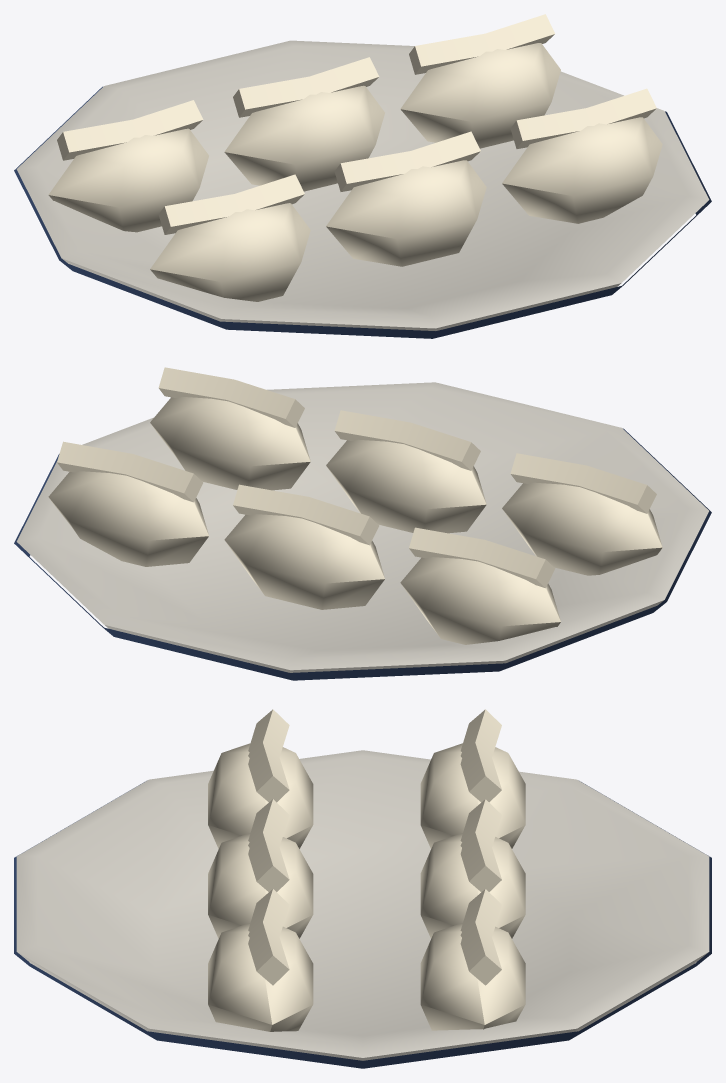
The model's file is dumpling_plate.glb.
3 renders of one model, top to bottom at view 1: azimuth 30°, elevation 25°; view 2: azimuth 150°, elevation 25°; view 3: azimuth 270°, elevation 25°, orthographic. The views are drawn at different scales.
Parts seen in each view (by area): view 1: dumpling_plate; view 2: dumpling_plate; view 3: dumpling_plate.
Boxes of the visible parts, <box> form: dumpling_plate: <box>14,14,711,338</box>; dumpling_plate: <box>14,367,711,680</box>; dumpling_plate: <box>14,709,711,1068</box>.
Size of the model in its own units: 0.2418 by 0.0501 by 0.23.
